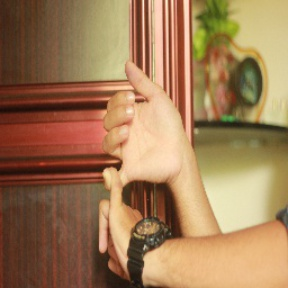S: (87, 61, 183, 280)
